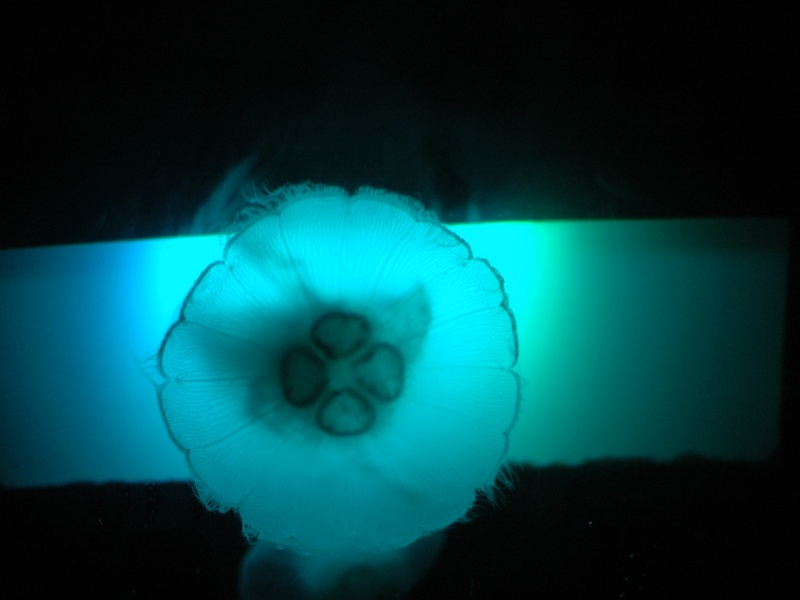Jellyfish: (133, 173, 531, 599)
